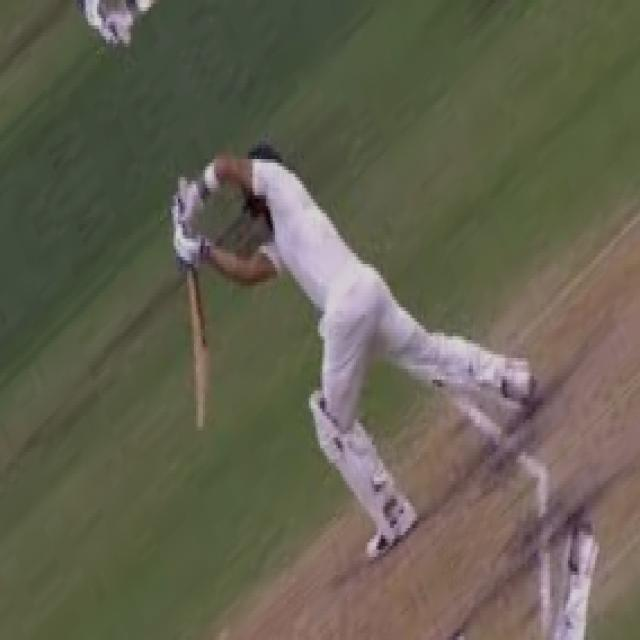toe: (193, 373, 214, 420)
